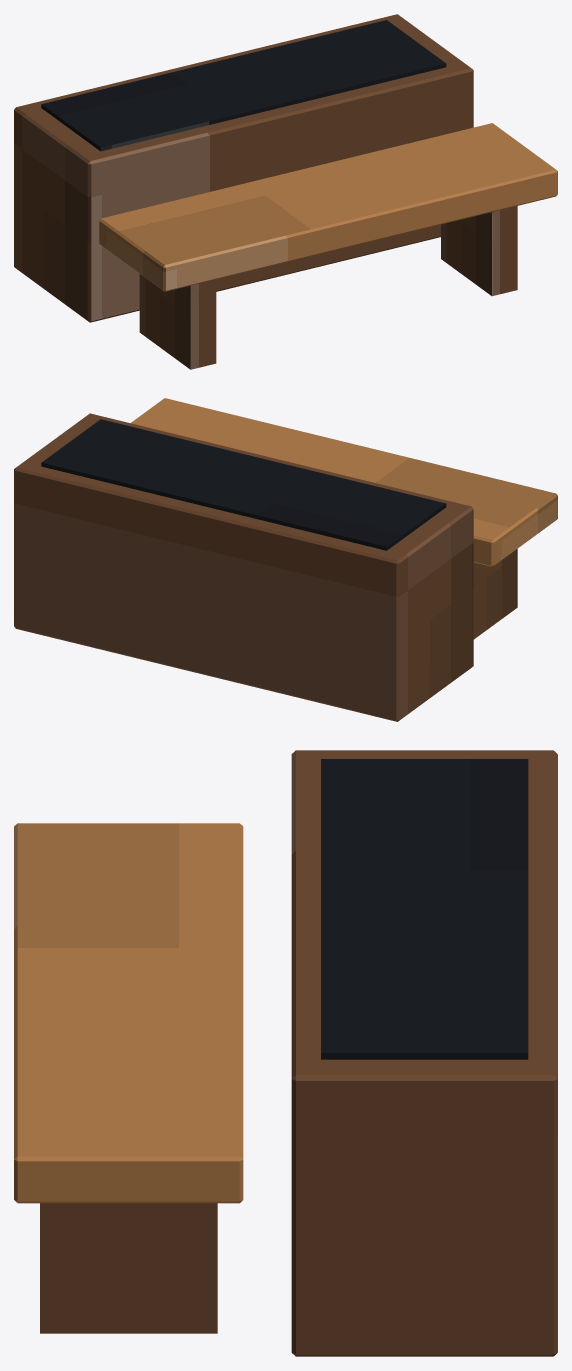
File: garden_planter_bench.glb
The picture shows the model from 3 angles, top to bottom: view 1: azimuth 30°, elevation 25°; view 2: azimuth 150°, elevation 25°; view 3: azimuth 270°, elevation 25°; orthographic projection. The views are drawn at different scales.
Parts seen in each view (by area): view 1: Planter, BenchSeat, Soil, BenchLeg_-0.82, BenchLeg_0.82; view 2: Planter, Soil, BenchSeat, BenchLeg_-0.82; view 3: Planter, BenchSeat, Soil, BenchLeg_0.82.
Part boxes in pixels (x1,y1,x2,y2): Planter: (14,14,473,322); BenchSeat: (99,123,557,291); Soil: (41,20,446,151); BenchLeg_-0.82: (139,274,216,369); BenchLeg_0.82: (441,206,517,296); Planter: (14,413,473,721); Soil: (41,419,446,550); BenchSeat: (130,398,557,566); BenchLeg_-0.82: (473,549,517,639); Planter: (291,750,557,1356); BenchSeat: (14,823,243,1203); Soil: (321,759,528,1059); BenchLeg_0.82: (40,1203,217,1333).
Size of the model in its own units: 2.15 by 0.86 by 1.47.
Materials: 1 (1 with a texture image).
